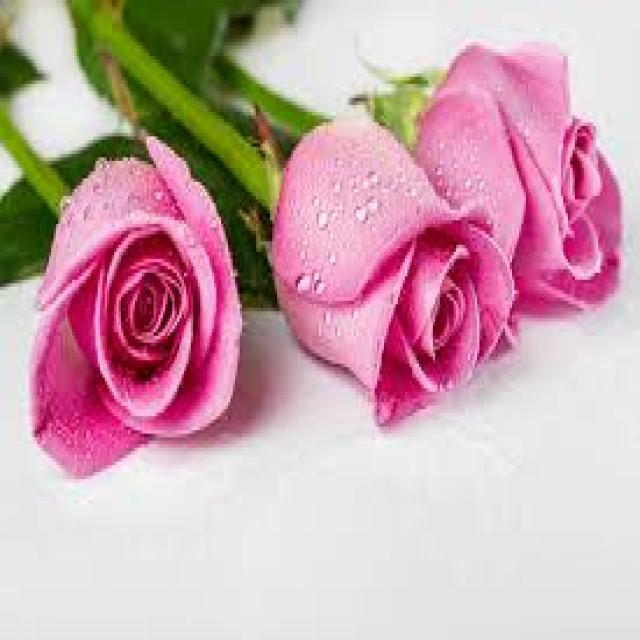rose: (30, 136, 255, 498)
